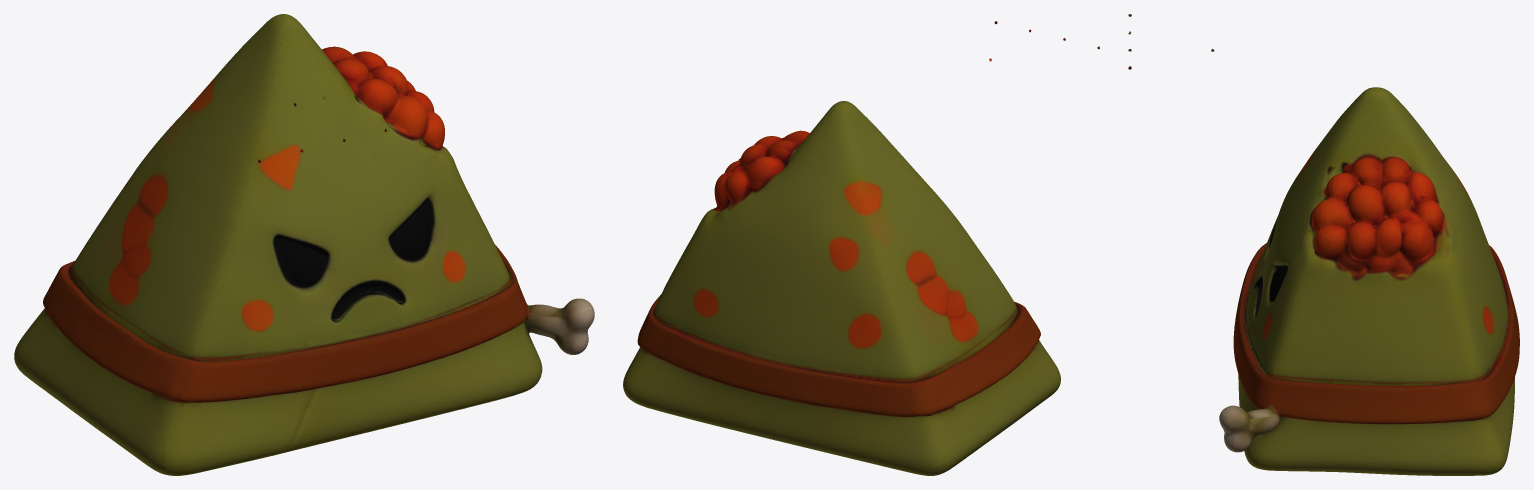
File: zombieangry.fbx
3 renders of one model, left to right at view 1: azimuth 30°, elevation 25°; view 2: azimuth 150°, elevation 25°; view 3: azimuth 270°, elevation 25°, orthographic. The views are drawn at different scales.
Visible parts, largest first — view 1: node_672fa81c_f323_40c3_9953_7935ba81eef9_mesh0; view 2: node_672fa81c_f323_40c3_9953_7935ba81eef9_mesh0; view 3: node_672fa81c_f323_40c3_9953_7935ba81eef9_mesh0.
Boxes of the visible parts, x1,y1,x2,y2 form: node_672fa81c_f323_40c3_9953_7935ba81eef9_mesh0: (14,14,594,475); node_672fa81c_f323_40c3_9953_7935ba81eef9_mesh0: (623,21,1099,475); node_672fa81c_f323_40c3_9953_7935ba81eef9_mesh0: (1128,14,1519,475).
Size of the model in its own units: 195 by 169 by 182.
1 material, 1 textured.
